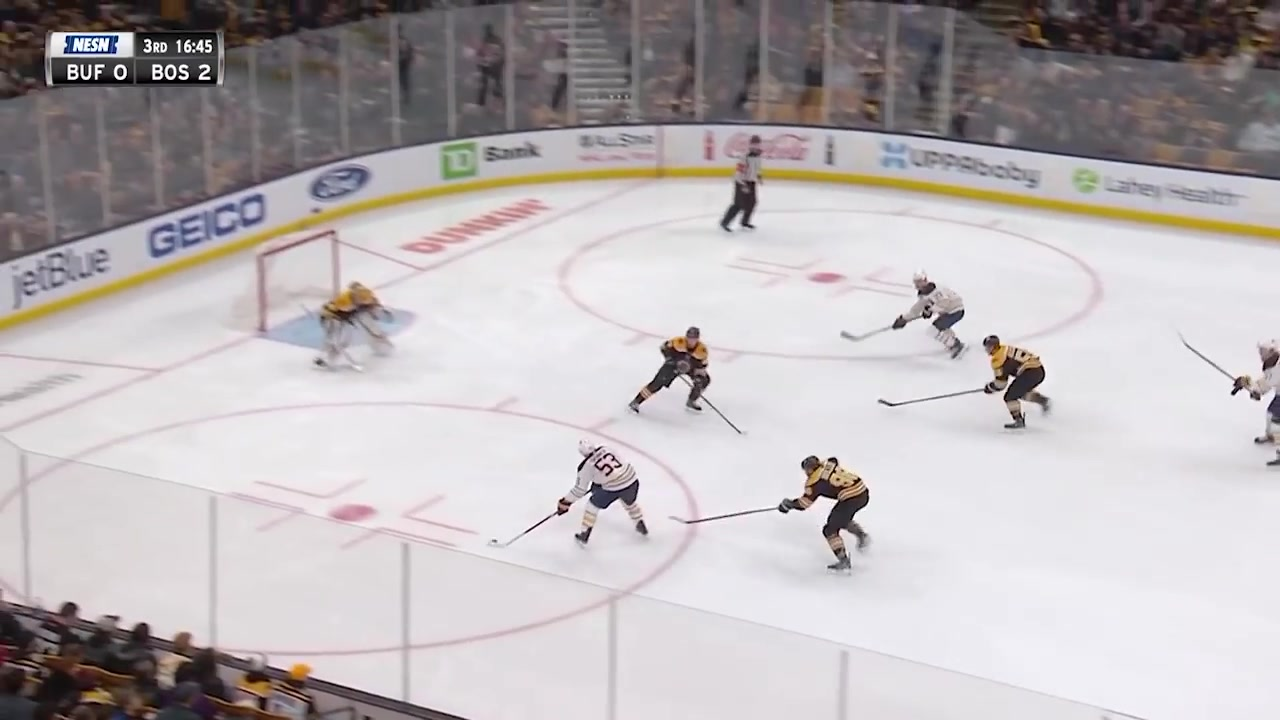Geico: (149, 186, 289, 257)
